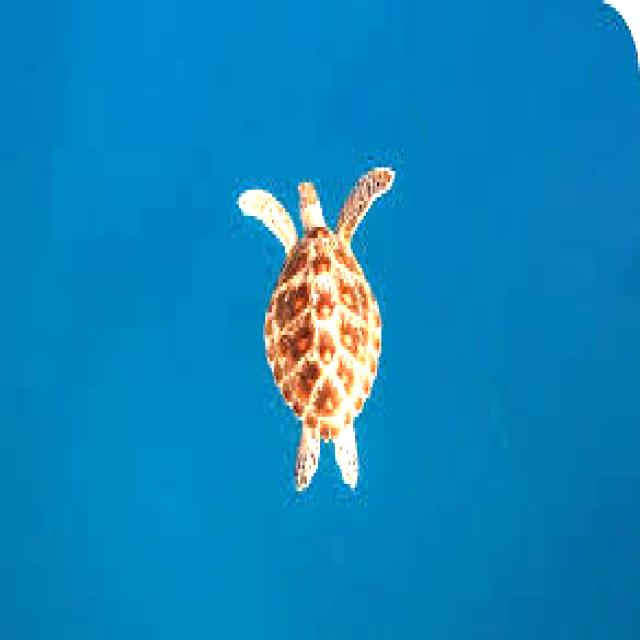Sea turtle: (216, 140, 427, 517)
